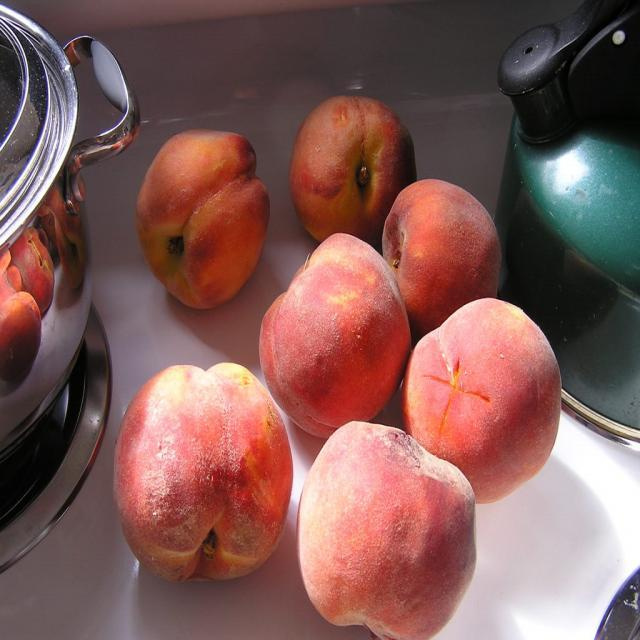Peach: (255, 99, 563, 639), (295, 420, 480, 636), (112, 365, 294, 584), (135, 129, 270, 310), (0, 261, 44, 381), (41, 184, 87, 290), (10, 222, 56, 316)
